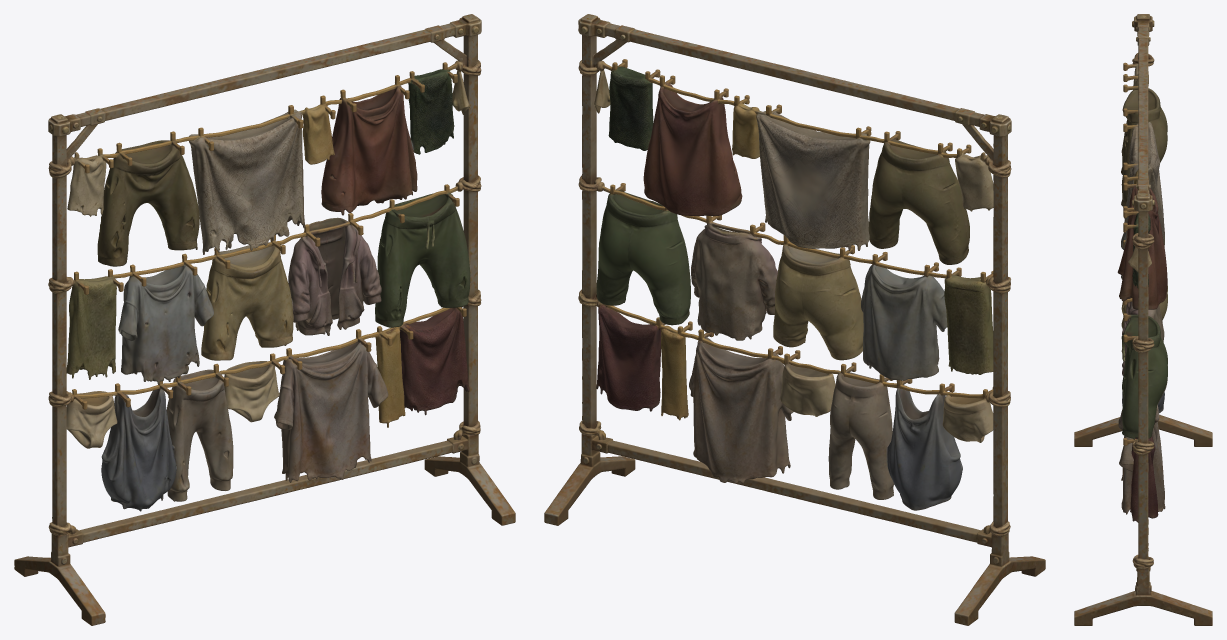
File: ClothesRack.glb
3 views of the same model, side by side, from view 1: azimuth 30°, elevation 25°; view 2: azimuth 150°, elevation 25°; view 3: azimuth 270°, elevation 25° (orthographic). The views are drawn at different scales.
Parts seen in each view (by area): view 1: tripo_node_2a3b3ad6-12f3-4273-9068-e38a782394ae; view 2: tripo_node_2a3b3ad6-12f3-4273-9068-e38a782394ae; view 3: tripo_node_2a3b3ad6-12f3-4273-9068-e38a782394ae.
Part boxes in pixels (<box>): tripo_node_2a3b3ad6-12f3-4273-9068-e38a782394ae: <box>14,14,515,625</box>; tripo_node_2a3b3ad6-12f3-4273-9068-e38a782394ae: <box>544,14,1045,625</box>; tripo_node_2a3b3ad6-12f3-4273-9068-e38a782394ae: <box>1074,14,1212,625</box>.
Size of the model in its own units: 0.9388 by 1 by 0.2934.
1 material, 1 textured.
